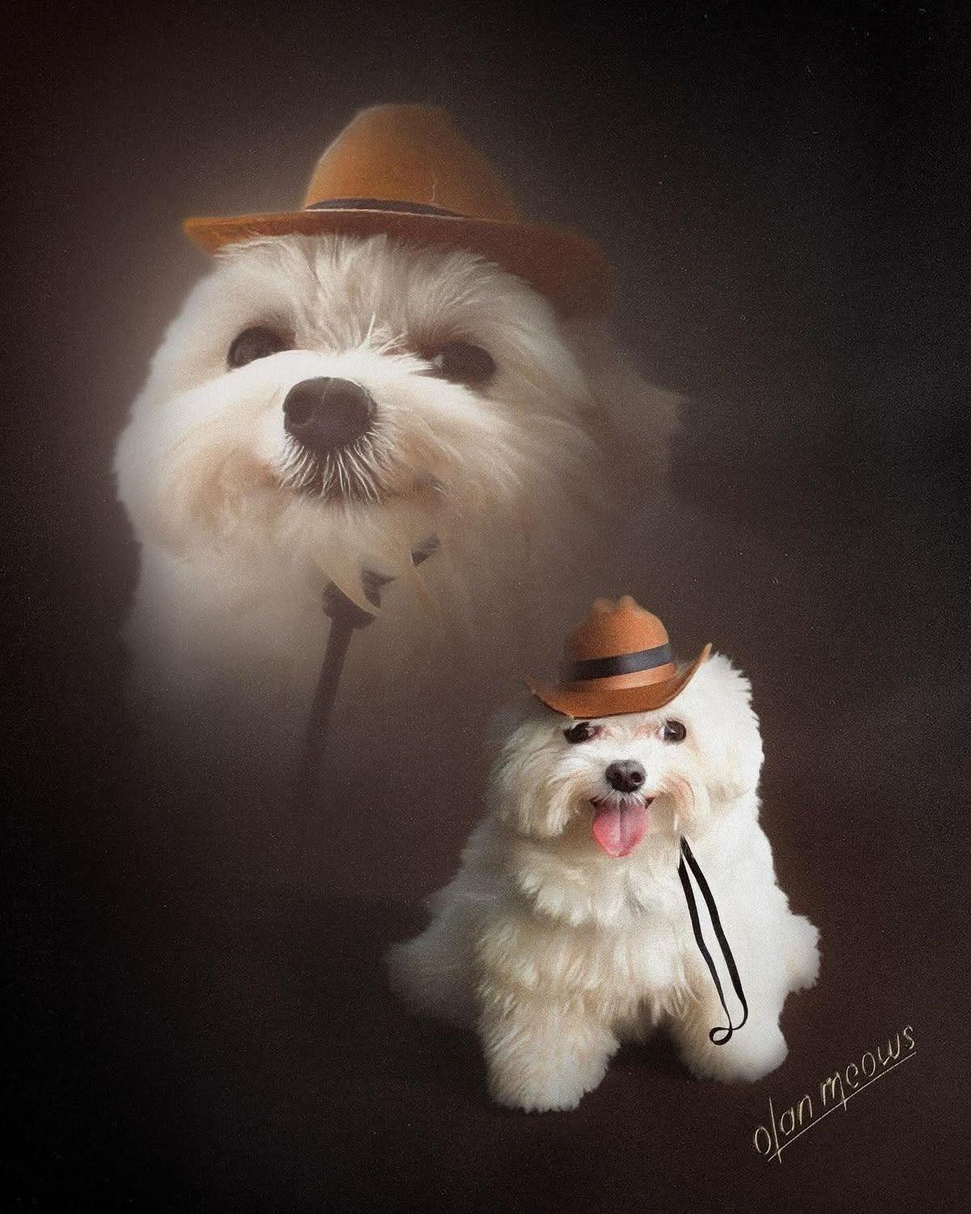adult_dog: (106, 236, 689, 786), (385, 652, 826, 1114)
